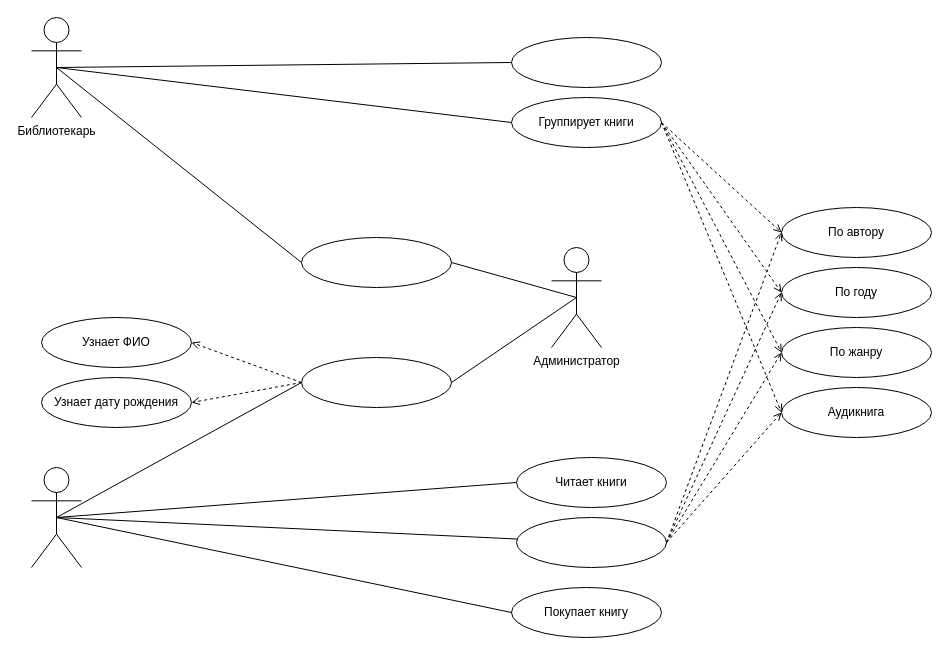
Some shapes in this 949 by 655 pixel diagram are drawn without their labels. The shapes that lost their labels are listed below. From the top down, each one's centre as x and y in pixels, then its label:
pixel 586 62: Продает книгу
pixel 376 262: Принимает новые книги
pixel 376 382: Регистрация
pixel 56 517: Гость
pixel 591 542: Выбирает книгу
